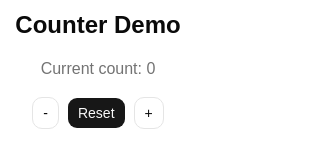
Counter › resets count to 0 when Reset button is clicked
The width and height of the screenshot is (320, 160).
// Increment a few times
Click the button named "Increment". click: (149, 113)
box: x1=134 y1=97 x2=164 y2=129
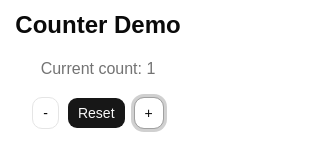
Click the button named "Increment". click: (149, 113)
box: x1=134 y1=97 x2=164 y2=129
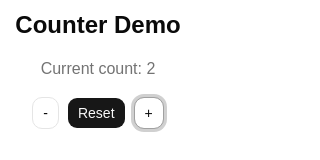
Click the button named "Increment". click: (149, 113)
box: x1=134 y1=97 x2=164 y2=129
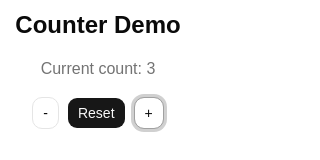
expect the text with test id "count" reads "3": met, box x1=146 y1=60 x2=155 y2=77
Click the button "Reset". click: (96, 113)
box: x1=67 y1=97 x2=126 y2=129
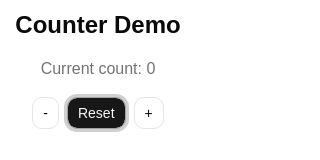
expect the text with test id "count" reads "0": met, box x1=146 y1=60 x2=155 y2=77
